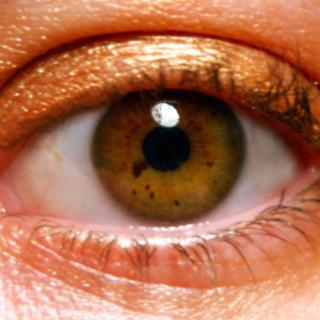pupil: (143, 125, 190, 172)
